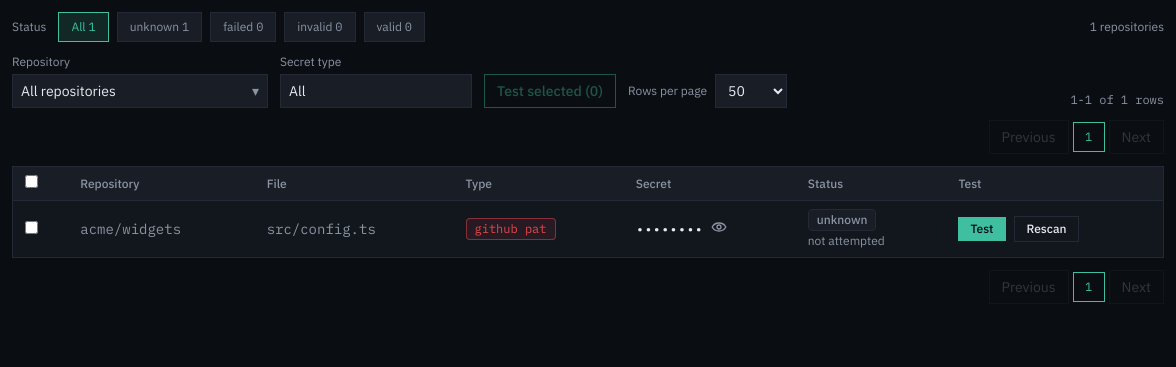
Test: TestingPanel (regular user, scoped to own approved repos) › logs a failure and keeps the last-known status when the live test fails
Click the button named "Repository": (140, 91) [12,74,268,108]
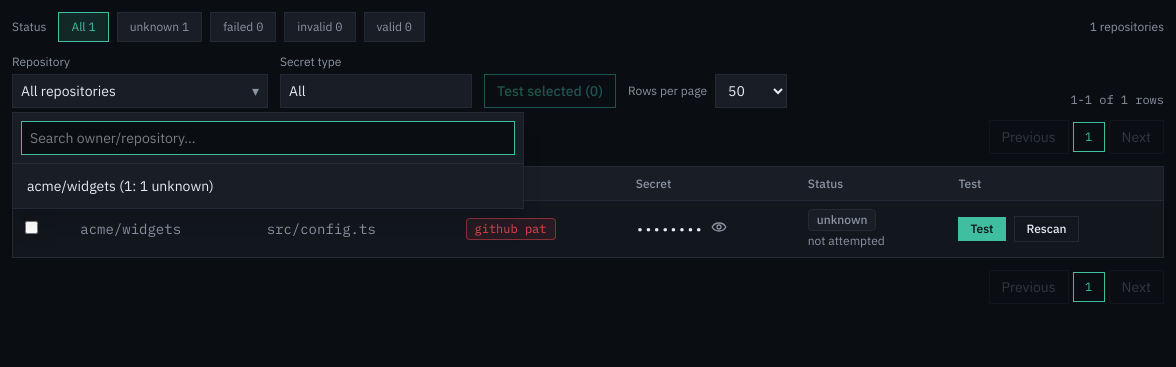
Click the option "acme/widgets (1: 1 unknown)": (120, 186) [17,168,519,204]
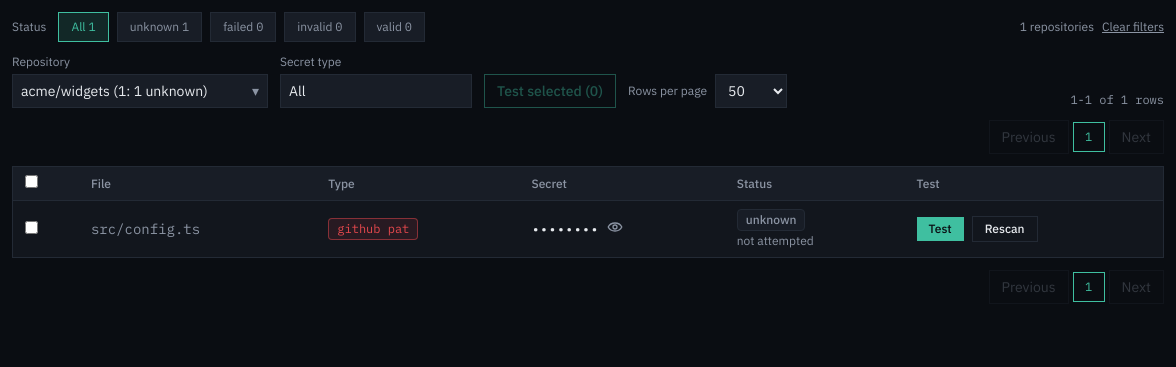
Expected: the text "src/config.ts" is shown, [79,200,316,257]
Click the button "Test": (940, 229) [917,217,964,241]
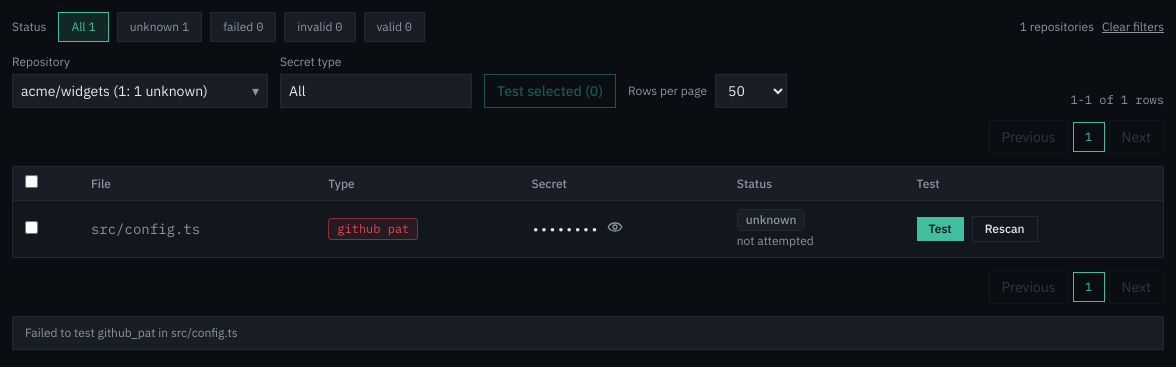
Expected: the button "unknown 1" is shown, [117,12,202,42]
Expected: the text "Failed to test github_pat in src/config.ts" is shown, [12,316,1164,350]
